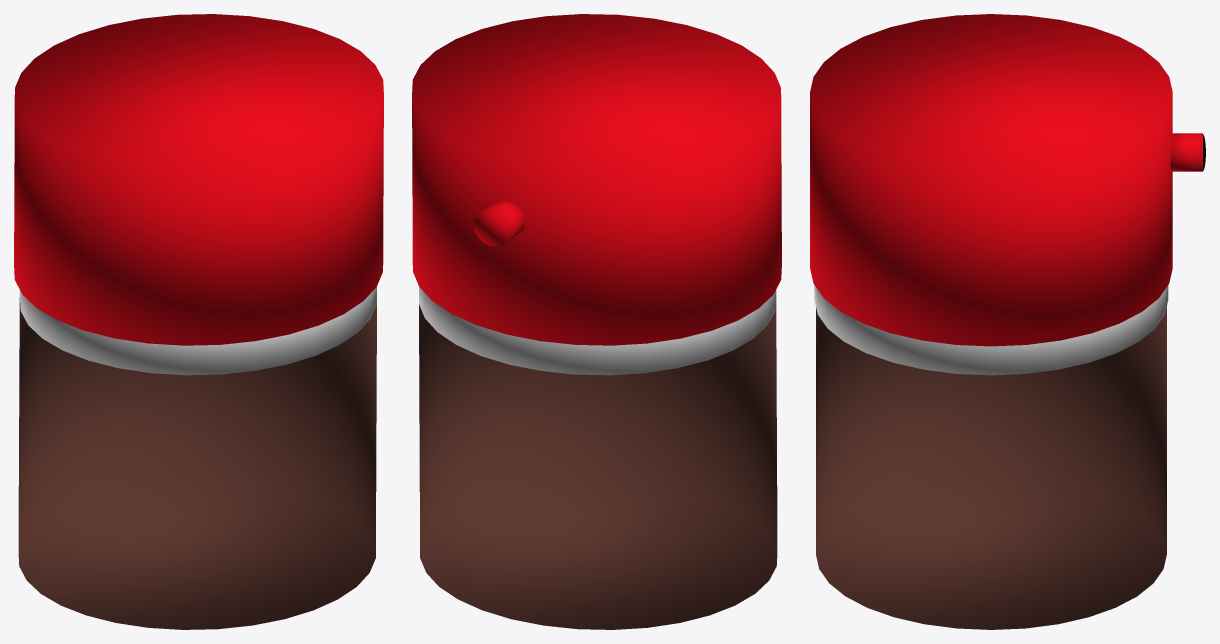
The model's file is syouyu.fbx.
The picture shows the model from 3 angles, left to right: view 1: azimuth 30°, elevation 25°; view 2: azimuth 150°, elevation 25°; view 3: azimuth 270°, elevation 25°; orthographic projection.
Visible parts, largest first — view 1: 球; view 2: 球; view 3: 球.
Part boxes in pixels (<box>): 球: <box>14,14,383,629</box>; 球: <box>412,14,781,629</box>; 球: <box>810,14,1205,629</box>.
Size of the model in its own units: 56.71 by 77.76 by 60.
